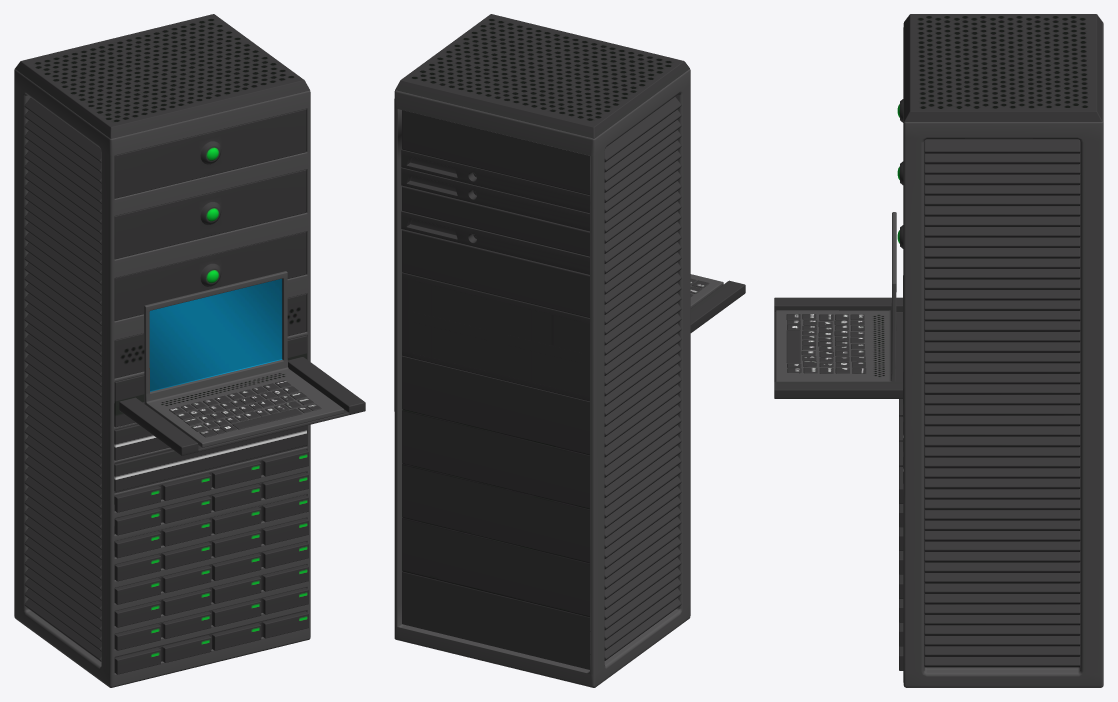
Rendered from Server.fbx.
3 views of the same model, side by side, from view 1: azimuth 30°, elevation 25°; view 2: azimuth 150°, elevation 25°; view 3: azimuth 270°, elevation 25° (orthographic). The views are drawn at different scales.
Visible parts, largest first — view 1: node_id42; view 2: node_id42; view 3: node_id42.
Part boxes in pixels (x1,y1,x2,y2): node_id42: [14, 14, 365, 687]; node_id42: [394, 14, 745, 687]; node_id42: [774, 14, 1103, 687].
Bounding box in the file's own units: 2.62 × 6.95 × 3.61.
Materials: 1 (1 with a texture image).
